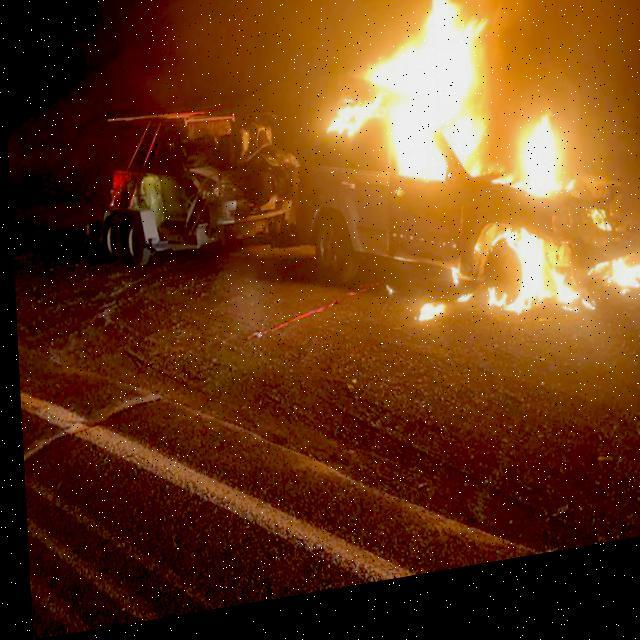Fire: (304, 4, 482, 216), (472, 240, 590, 348), (489, 136, 571, 224), (603, 271, 639, 322), (414, 312, 444, 336), (442, 273, 460, 304)
